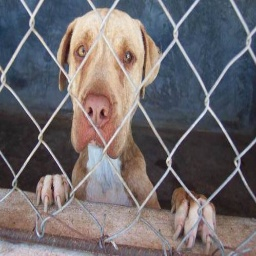dog: (25, 6, 218, 247)
